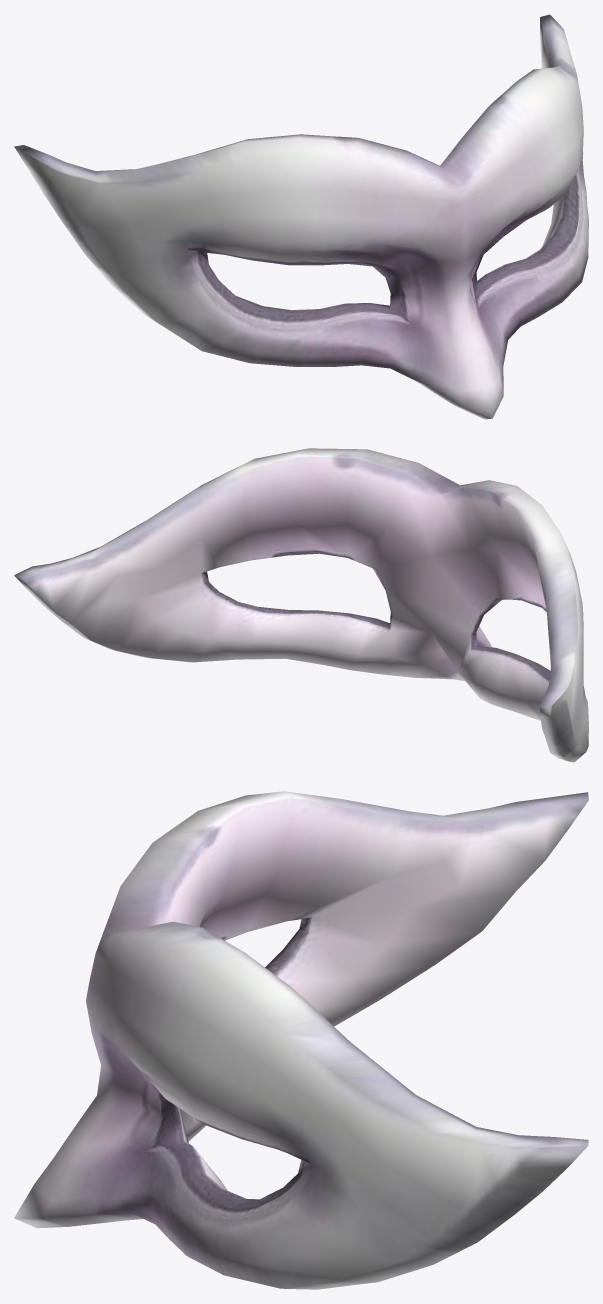
3 renders of one model, top to bottom at view 1: azimuth 30°, elevation 25°; view 2: azimuth 150°, elevation 25°; view 3: azimuth 270°, elevation 25°, orthographic. The views are drawn at different scales.
Parts seen in each view (by area): view 1: Wolf3D_Facewear.002; view 2: Wolf3D_Facewear.002; view 3: Wolf3D_Facewear.002.
Boxes of the visible parts, bbox=[...] form: Wolf3D_Facewear.002: bbox=[14, 14, 588, 419]; Wolf3D_Facewear.002: bbox=[14, 448, 588, 762]; Wolf3D_Facewear.002: bbox=[14, 791, 588, 1289].
Size of the model in its own units: 0.1865 by 0.085 by 0.1274.
Materials: 1 (1 with a texture image).
